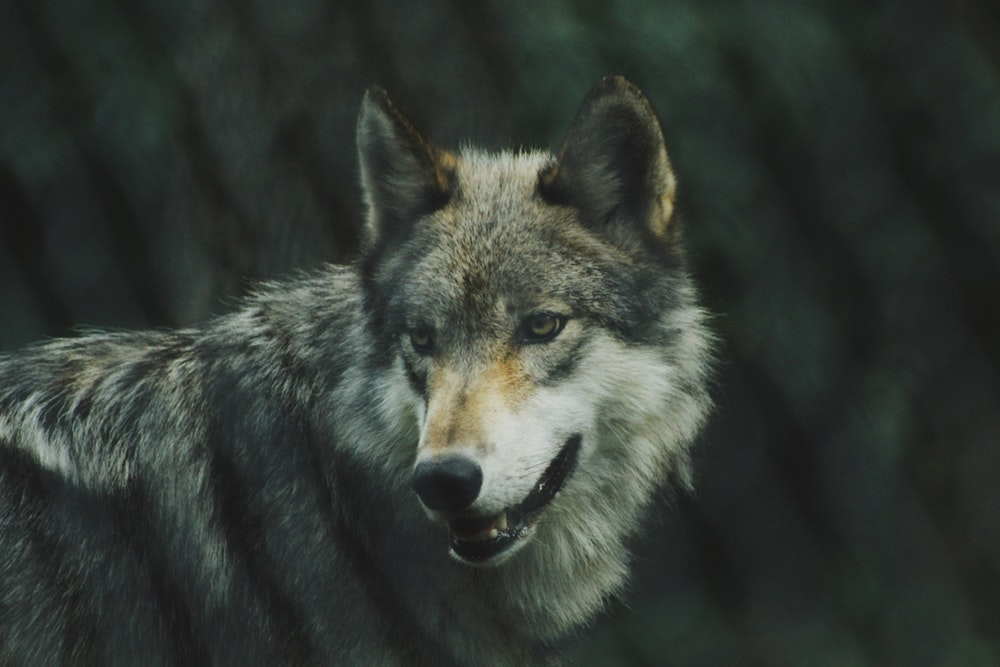wolf: (8, 56, 702, 667)
